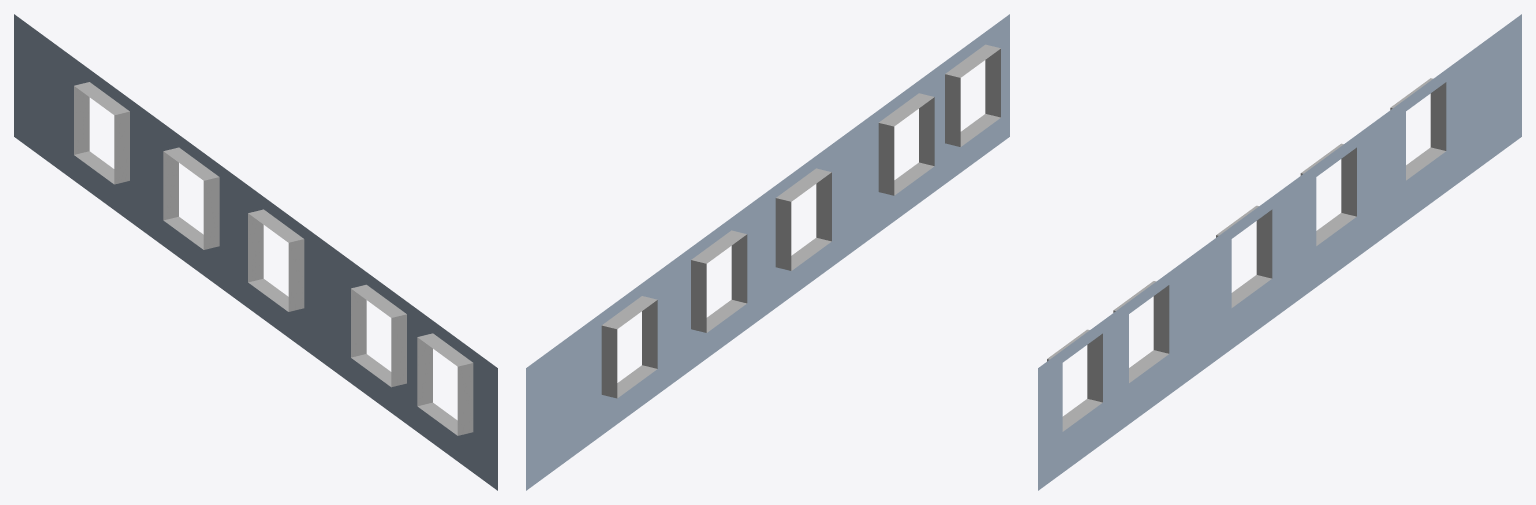
Rendered from JoonaksenLuokka_Ulkoseina.fbx.
The picture shows the model from 3 angles, left to right: view 1: azimuth 30°, elevation 25°; view 2: azimuth 150°, elevation 25°; view 3: azimuth 330°, elevation 25°; orthographic projection.
Visible parts, largest first — view 1: UlkoSeina; view 2: UlkoSeina; view 3: UlkoSeina.
Part boxes in pixels (x1,y1,x2,y2): UlkoSeina: [14, 14, 497, 490]; UlkoSeina: [526, 14, 1009, 490]; UlkoSeina: [1038, 14, 1521, 490].
Bounding box in the file's own units: 46.8 × 350 × 2500.
